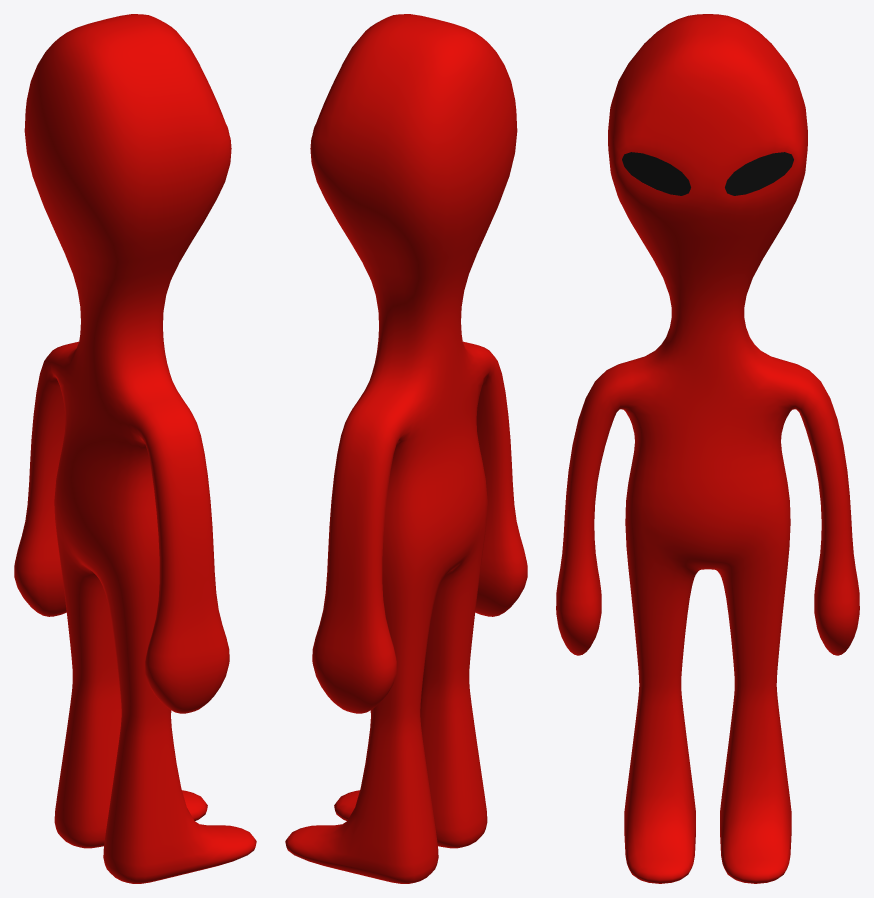
Rendered from Alien Fixed.fbx.
3 renders of one model, left to right at view 1: azimuth 30°, elevation 25°; view 2: azimuth 150°, elevation 25°; view 3: azimuth 270°, elevation 25°, orthographic. The views are drawn at different scales.
Visible parts, largest first — view 1: Body; view 2: Body; view 3: Body, Eyes.
Boxes of the visible parts, box(x1,y1,x2,y2) form: Body: box(14, 14, 256, 883); Body: box(285, 14, 527, 883); Body: box(556, 14, 859, 883); Eyes: box(622, 152, 793, 195).
Bounding box in the file's own units: 296 × 1309 × 443.
